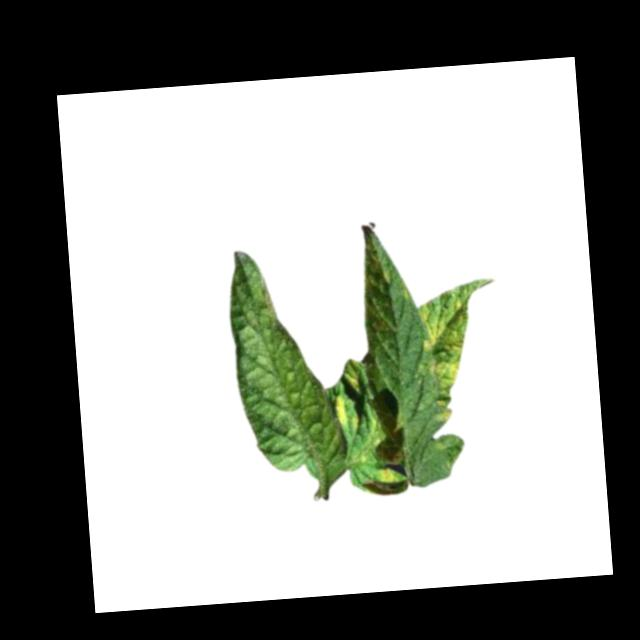Leaf_Mold: (415, 290, 477, 423), (332, 392, 358, 438), (342, 359, 363, 392)
